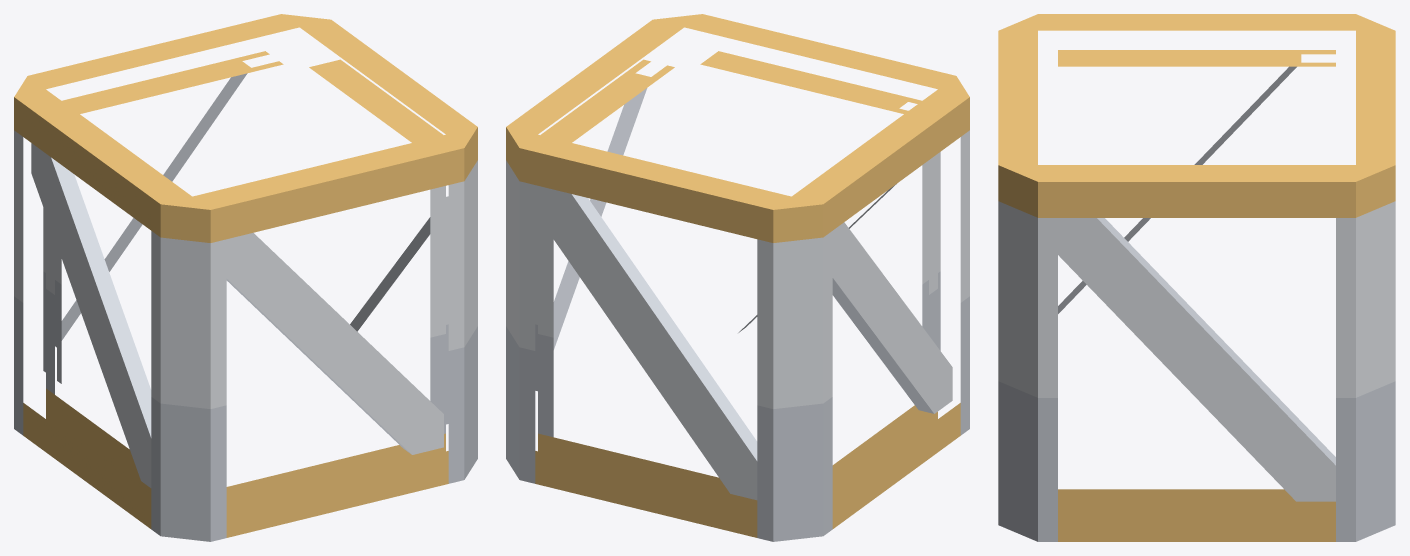
File: coin_structure_diagonal_lev1_lev2.glb
3 renders of one model, left to right at view 1: azimuth 30°, elevation 25°; view 2: azimuth 150°, elevation 25°; view 3: azimuth 270°, elevation 25°, orthographic. The views are drawn at different scales.
Visible parts, largest first — view 1: coin_structure_diagonal_lev1_lev2; view 2: coin_structure_diagonal_lev1_lev2; view 3: coin_structure_diagonal_lev1_lev2.
Boxes of the visible parts, x1,y1,x2,y2 form: coin_structure_diagonal_lev1_lev2: [14, 14, 477, 541]; coin_structure_diagonal_lev1_lev2: [506, 14, 969, 541]; coin_structure_diagonal_lev1_lev2: [998, 14, 1395, 541].
Size of the model in its own units: 1 by 1 by 1.
